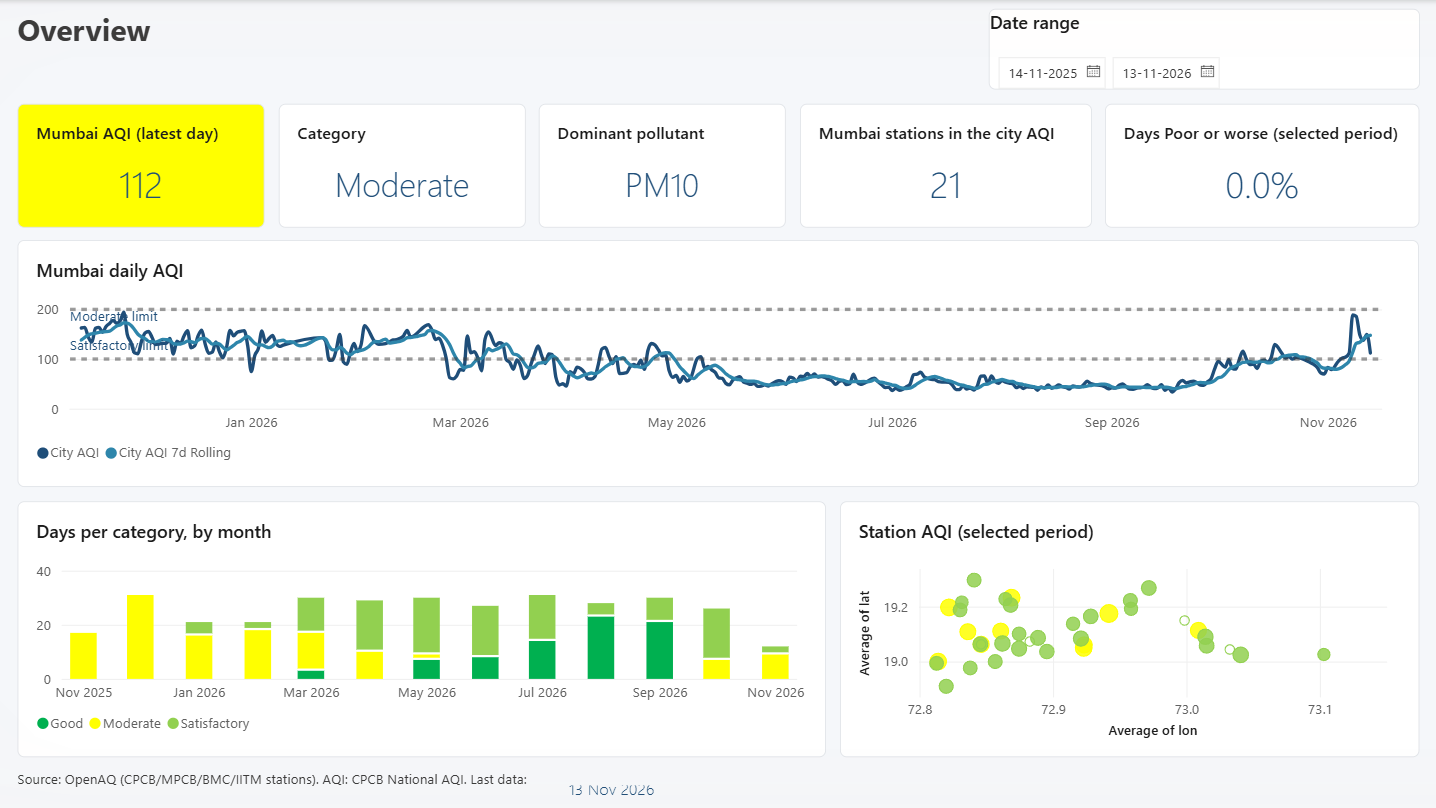

What the dashboard file says about the page in this screenshot:
{"tool":"powerbi","page":{"name":"Overview","canvas":[1280,720],"ordinal":0},"visuals":[{"type":"textbox","box":[16,8,600,48],"z":0},{"type":"textbox","box":[16,684,462,30],"z":1000},{"type":"card","fields":{"Values":["_Measures.Latest Day"]},"box":[470,678,150,40],"z":2000},{"type":"slicer","title":"Date range","fields":{"Values":["dim_date.day"]},"box":[880,8,384,72],"z":3000},{"type":"card","title":"Mumbai AQI (latest day)","fields":{"Values":["_Measures.Latest City AQI"]},"box":[16,92,220,110],"z":4000},{"type":"card","title":"Category","fields":{"Values":["_Measures.Latest City Category"]},"box":[248,92,220,110],"z":5000},{"type":"card","title":"Dominant pollutant","fields":{"Values":["_Measures.Latest Dominant Pollutant"]},"box":[480,92,220,110],"z":6000},{"type":"card","title":"Mumbai stations in the city AQI","fields":{"Values":["_Measures.Mumbai Stations (Latest Day)"]},"box":[712,92,260,110],"z":7000},{"type":"card","title":"Days Poor or worse (selected period)","fields":{"Values":["_Measures.% Days Poor or Worse"]},"box":[984,92,280,110],"z":8000},{"type":"lineChart","title":"Mumbai daily AQI","fields":{"Category":["dim_date.day"],"Y":["_Measures.City AQI","_Measures.City AQI 7d Rolling"]},"box":[16,214,1248,220],"z":9000},{"type":"columnChart","title":"Days per category, by month","fields":{"Category":["dim_date.month_start"],"Series":["city_daily_aqi.category"],"Y":["_Measures.Days With City AQI"]},"box":[16,446,720,228],"z":10000},{"type":"scatterChart","title":"Station AQI (selected period)","fields":{"Category":["dim_station.station_name"],"Size":["_Measures.Station AQI"],"X":["Avg(dim_station.lon)"],"Y":["Avg(dim_station.lat)"]},"box":[748,446,516,228],"z":11000}]}

Visuals, with their boxes in screenshot pixels (x1, y1, x2, y2), scaled from the page's 1280x720 canvas onto the 1436x808 screenshot:
textbox: rect(18, 9, 691, 63)
textbox: rect(18, 768, 536, 801)
card - _Measures.Latest Day: rect(527, 761, 696, 806)
"Date range" slicer: rect(987, 9, 1418, 90)
"Mumbai AQI (latest day)" card: rect(18, 103, 265, 227)
"Category" card: rect(278, 103, 525, 227)
"Dominant pollutant" card: rect(538, 103, 785, 227)
"Mumbai stations in the city AQI" card: rect(799, 103, 1090, 227)
"Days Poor or worse (selected period)" card: rect(1104, 103, 1418, 227)
"Mumbai daily AQI" lineChart: rect(18, 240, 1418, 487)
"Days per category, by month" columnChart: rect(18, 501, 826, 756)
"Station AQI (selected period)" scatterChart: rect(839, 501, 1418, 756)
